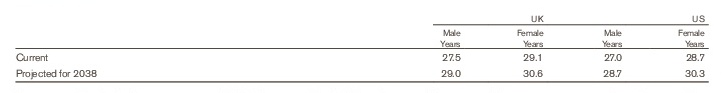table: (0, 0, 727, 93)
